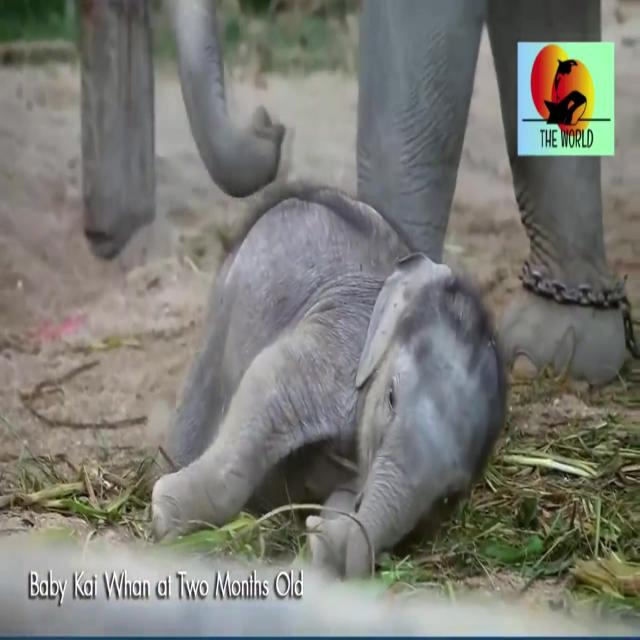Elephant: (186, 174, 473, 570), (358, 0, 510, 264)
